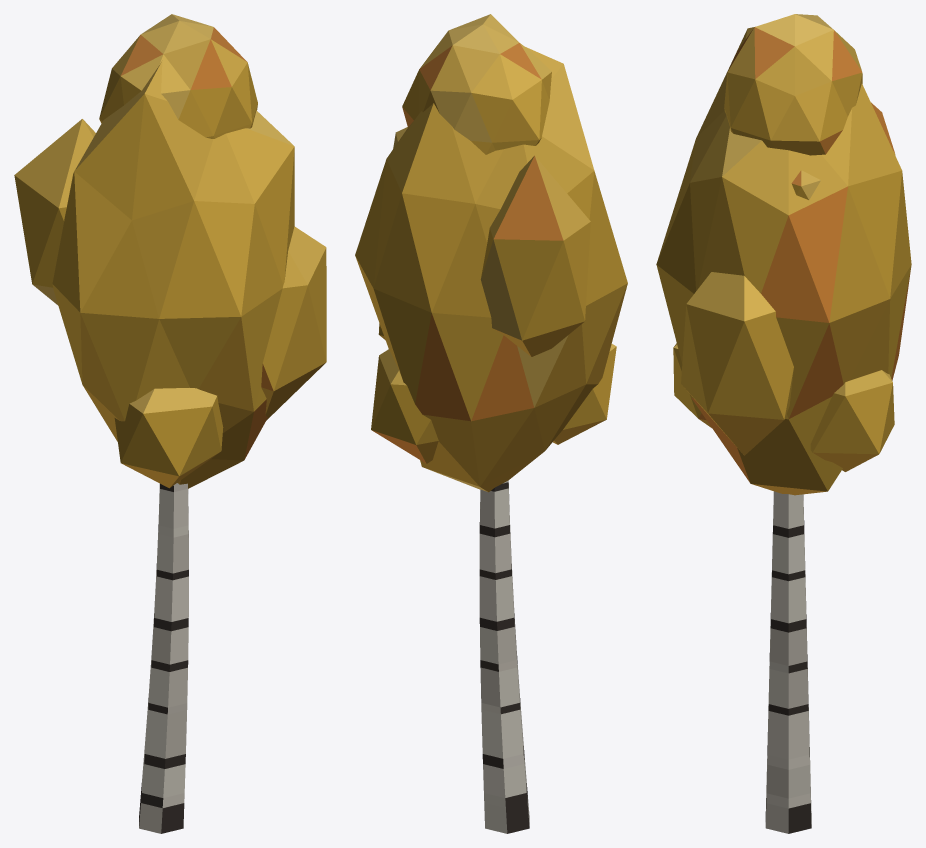
The model's file is tree_birch_yellow.glb.
3 renders of one model, left to right at view 1: azimuth 30°, elevation 25°; view 2: azimuth 150°, elevation 25°; view 3: azimuth 270°, elevation 25°, orthographic. The views are drawn at different scales.
Visible parts, largest first — view 1: tree_birch_yellow; view 2: tree_birch_yellow; view 3: tree_birch_yellow.
Boxes of the visible parts, left/top/right/bottom form: tree_birch_yellow: left=14, top=14, right=326, bottom=833; tree_birch_yellow: left=355, top=14, right=627, bottom=833; tree_birch_yellow: left=656, top=14, right=911, bottom=833.
Bounding box in the file's own units: 2.33 × 7.16 × 2.02.
